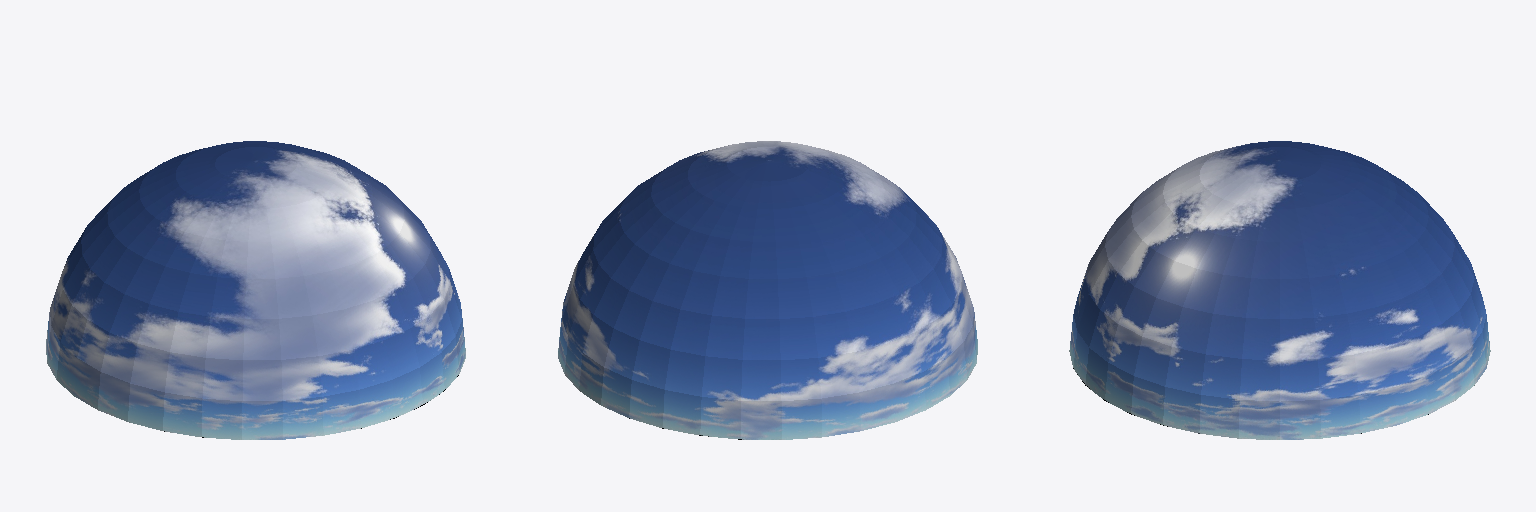
The picture shows the model from 3 angles: view 1: azimuth 30°, elevation 25°; view 2: azimuth 150°, elevation 25°; view 3: azimuth 270°, elevation 25°; orthographic projection.
Visible parts, largest first — view 1: Skydome_Sphere; view 2: Skydome_Sphere; view 3: Skydome_Sphere.
Boxes of the visible parts, x1,y1,x2,y2 form: Skydome_Sphere: [46, 141, 465, 439]; Skydome_Sphere: [558, 141, 977, 439]; Skydome_Sphere: [1069, 141, 1490, 439].
Bounding box in the file's own units: 58.87 × 29.44 × 58.87.
Materials: 1 (1 with a texture image).